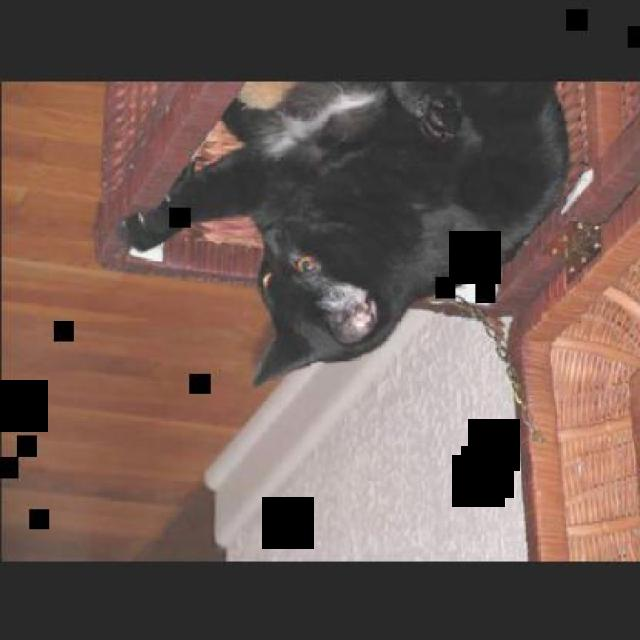unauthorized: (116, 79, 570, 386)
